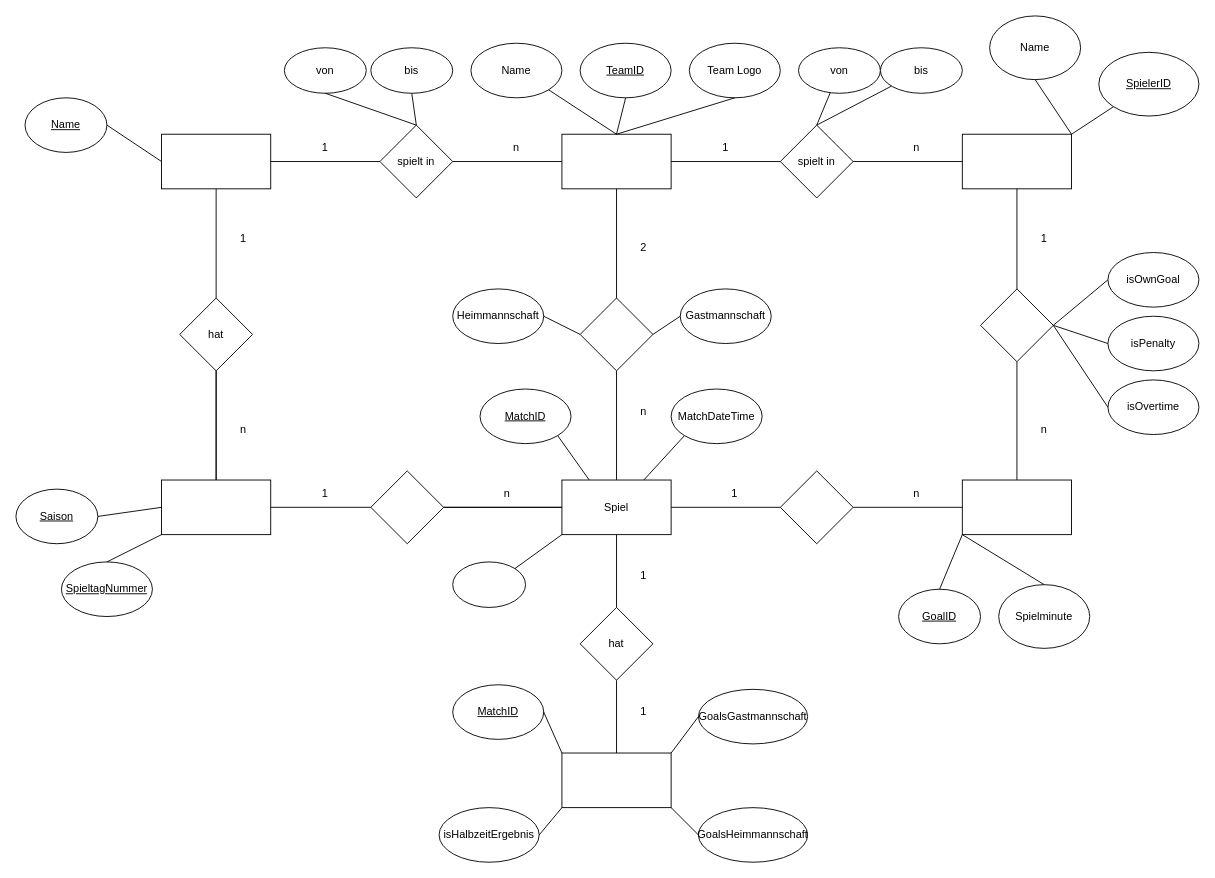
Some shapes in this 1215 by 878 pixel diagram are drawn without their labels. Here are the shapes that lost their labels. From the top down, the centre of each, then its label:
At [216,161]: "Liga".
At [616,161]: "Mannschaft".
At [1016,161]: "Spieler".
At [616,334]: "spielt".
At [1016,325]: "schießt".
At [216,507]: "Spieltag".
At [407,507]: "besteht aus".
At [816,507]: "zählt".
At [1016,507]: "Tor".
At [489,584]: "Ort".
At [616,780]: "Ergebnis".
